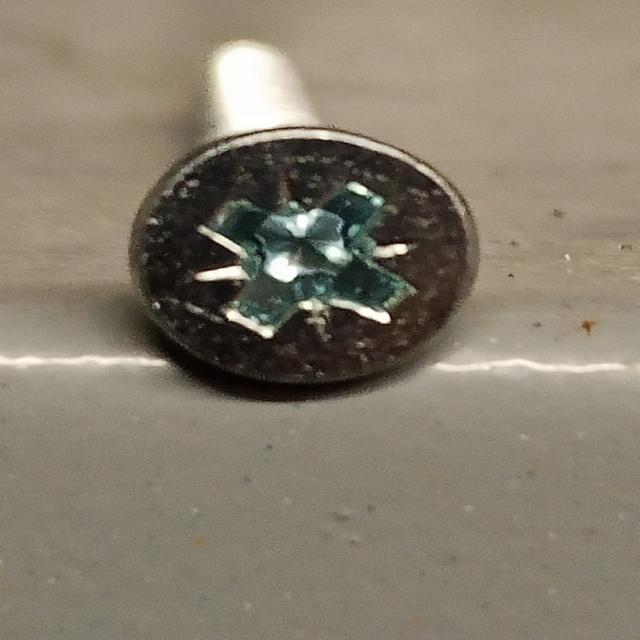pozidriv: (128, 127, 484, 389)
